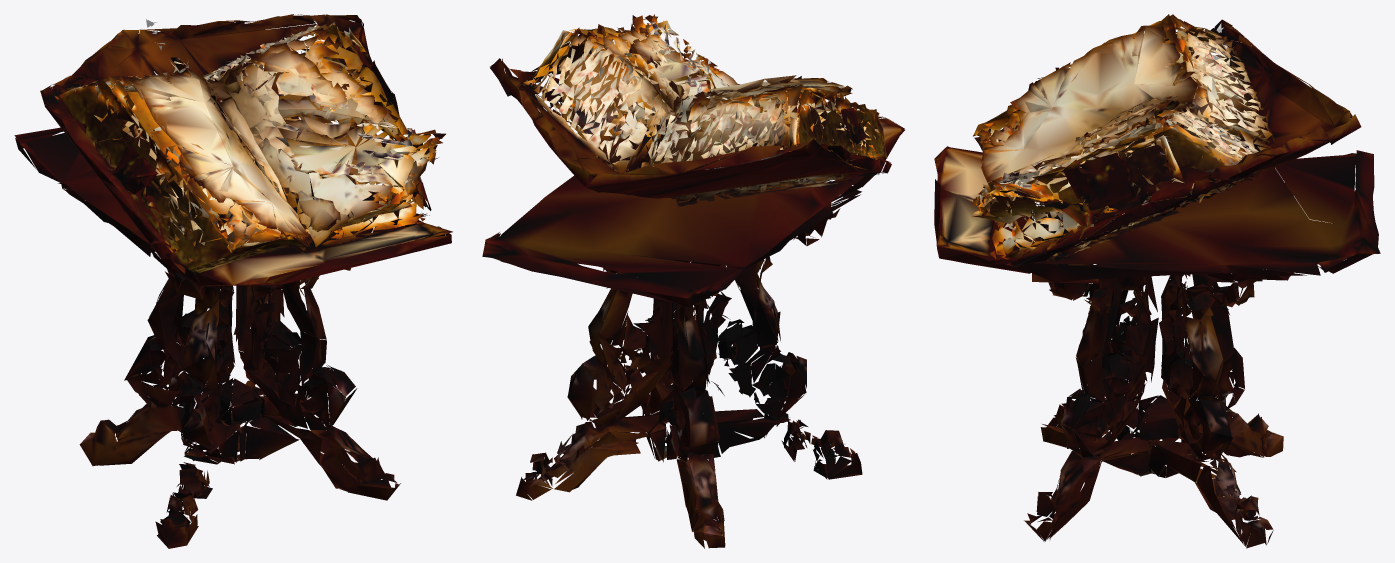
The model's file is journal_lectern.glb.
The picture shows the model from 3 angles, left to right: view 1: azimuth 30°, elevation 25°; view 2: azimuth 150°, elevation 25°; view 3: azimuth 270°, elevation 25°; orthographic projection. The views are drawn at different scales.
Parts seen in each view (by area): view 1: journal_lectern_body; view 2: journal_lectern_body; view 3: journal_lectern_body.
Part boxes in pixels (bbox=[...]): journal_lectern_body: bbox=[14, 14, 452, 548]; journal_lectern_body: bbox=[482, 14, 904, 548]; journal_lectern_body: bbox=[934, 14, 1380, 548].
Size of the model in its own units: 1.16 by 1.57 by 1.42.
Materials: 1 (1 with a texture image).
